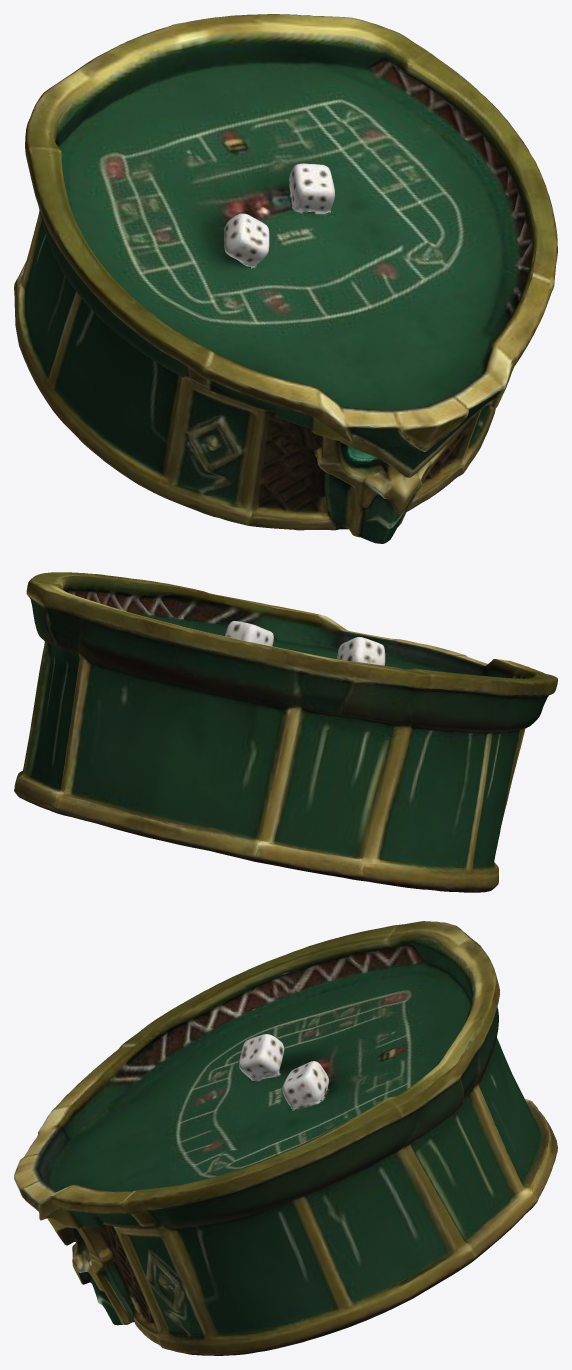
Rendered from lar_craps.glb.
3 views of the same model, one above another, from view 1: azimuth 30°, elevation 25°; view 2: azimuth 150°, elevation 25°; view 3: azimuth 270°, elevation 25° (orthographic). The views are drawn at different scales.
Size of the model in its own units: 0.8071 by 0.6255 by 0.9004.
1 material, 1 textured.
